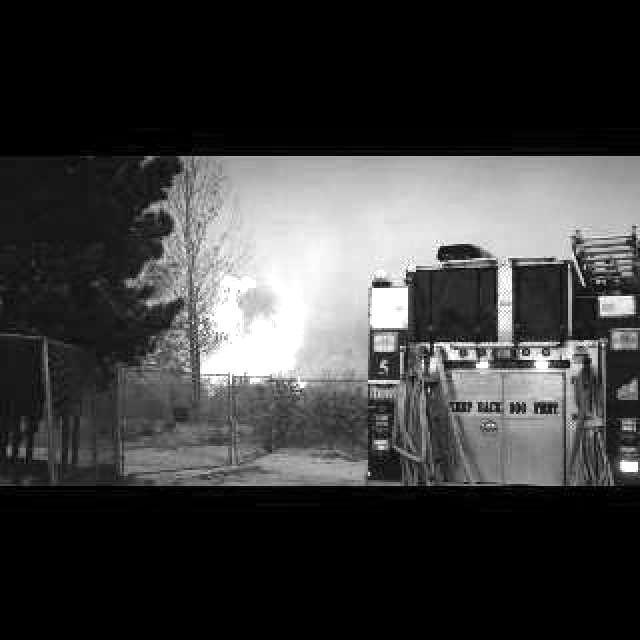Smoke: (194, 263, 304, 395)
